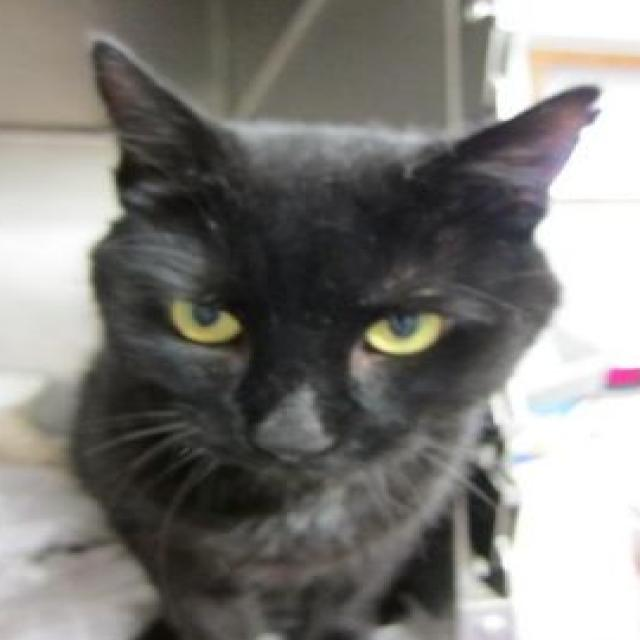Bombay: (61, 28, 604, 640)
